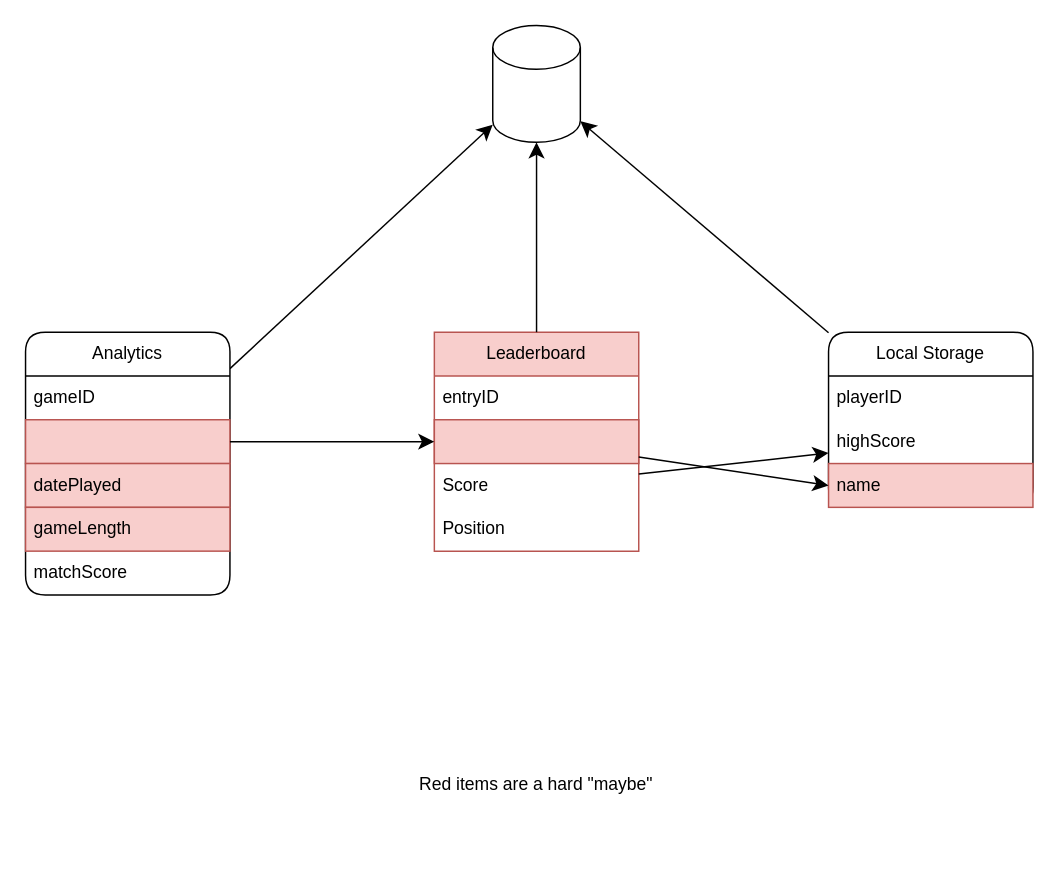
This 1059x883 diagram has some shape labels left out. Here are the shapes that lost their labels. From the top down, the centre of each, then its label:
At pixel 535 83: "Game".
At pixel 127 441: "playerName".
At pixel 536 441: "Player".
